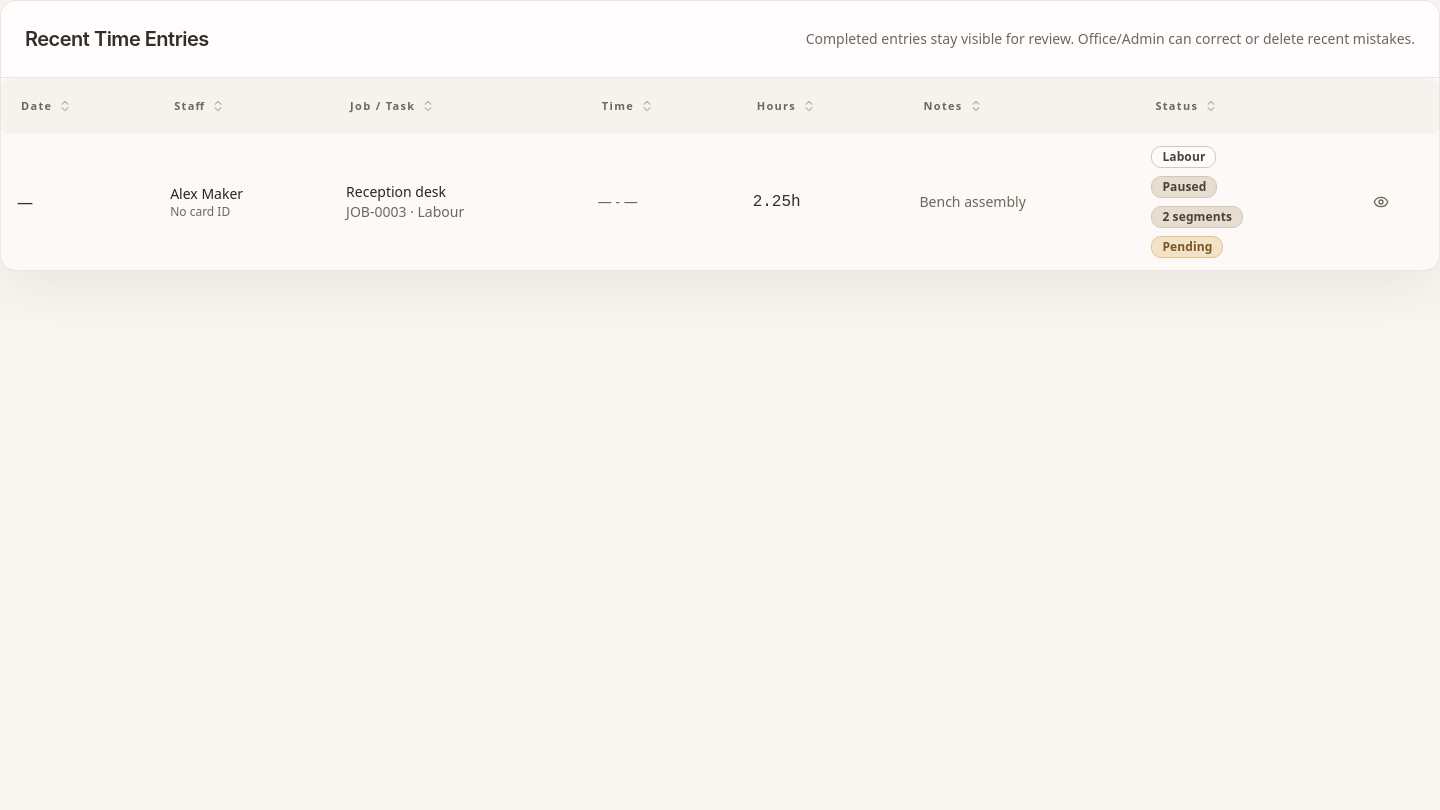
TimeEntryTable › shows segment history for a paused multi-segment timer and keeps it read-only
Click the button named "view time entry details for alex maker" at {"x": 1381, "y": 202}, box [1359,180,1403,224]
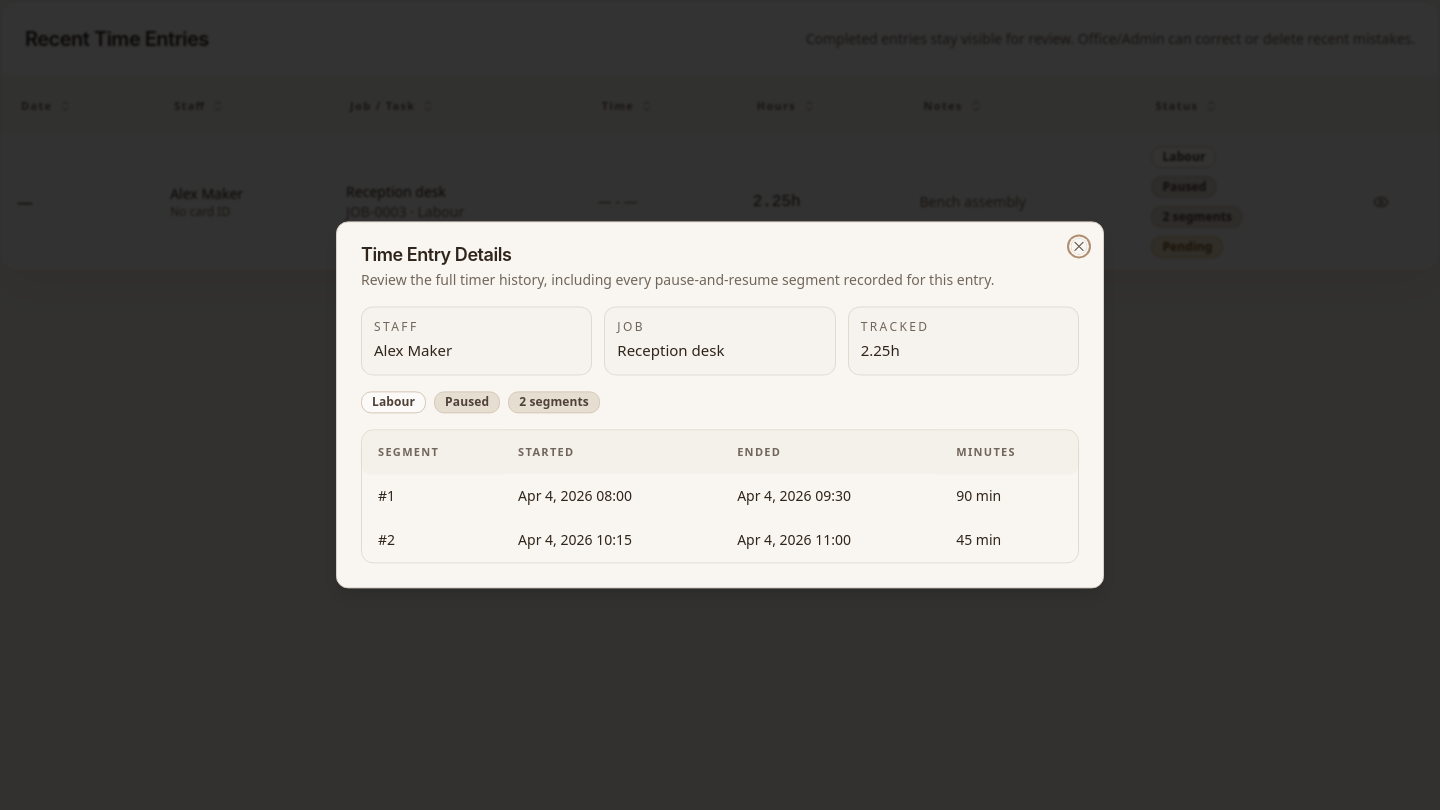
Check: the text "Paused" is shown, box [434,392,500,414]
Check: the text "2 segments" is shown, box [508,392,600,414]
Check: the text "#1" is shown, box [362,475,502,519]
